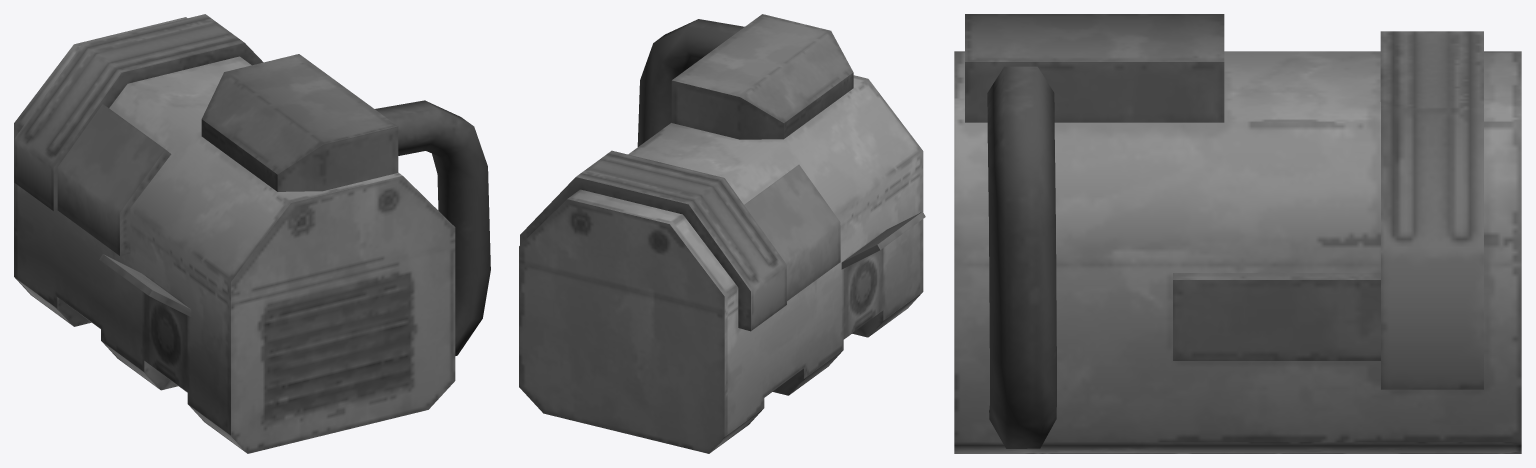
File: SM_GeneratorBox__2.fbx
3 renders of one model, left to right at view 1: azimuth 30°, elevation 25°; view 2: azimuth 150°, elevation 25°; view 3: azimuth 270°, elevation 25°, orthographic. The views are drawn at different scales.
Visible parts, largest first — view 1: MAT_Street_01_new 1; view 2: MAT_Street_01_new 1; view 3: MAT_Street_01_new 1.
Boxes of the visible parts, box(x1,y1,x2,y2) form: MAT_Street_01_new 1: box(14, 14, 490, 453); MAT_Street_01_new 1: box(519, 14, 925, 453); MAT_Street_01_new 1: box(954, 14, 1521, 453).
Size of the model in its own units: 0.969 by 0.8233 by 1.13.
Materials: 1 (1 with a texture image).
